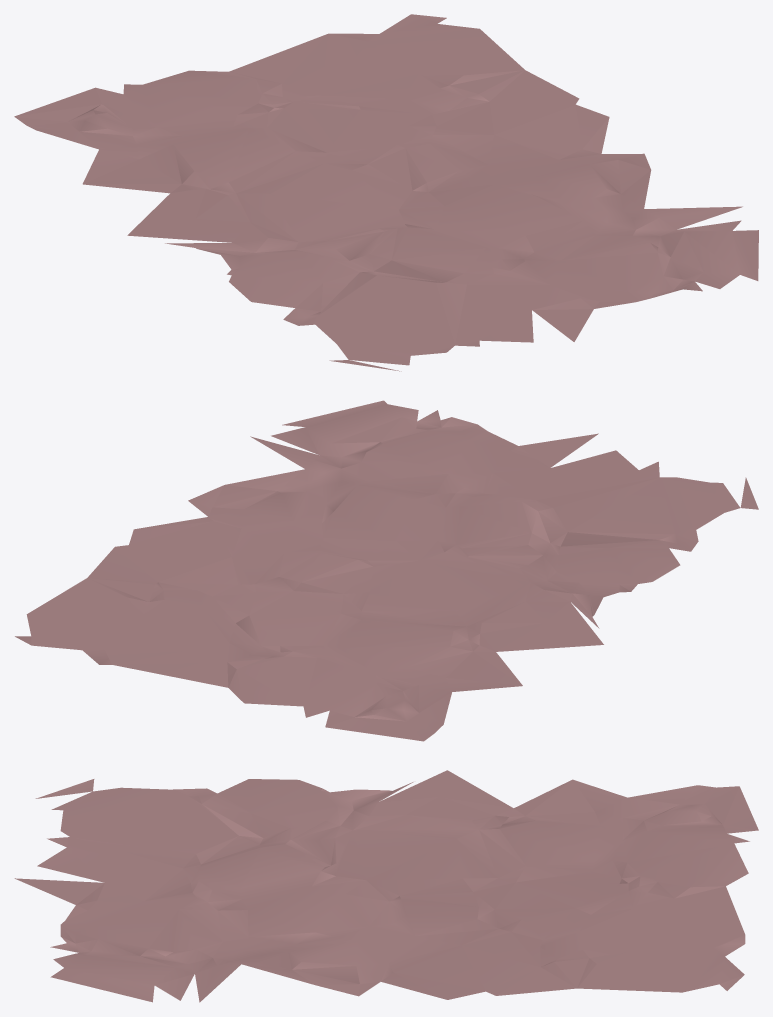
File: pleateauArea1.fbx_PolyShape__46__011LODs.fbx
3 views of the same model, one above another, from view 1: azimuth 30°, elevation 25°; view 2: azimuth 150°, elevation 25°; view 3: azimuth 270°, elevation 25° (orthographic). The views are drawn at different scales.
Visible parts, largest first — view 1: PolyShape (46).011_LOD0; view 2: PolyShape (46).011_LOD0; view 3: PolyShape (46).011_LOD0.
Boxes of the visible parts, <box> form: PolyShape (46).011_LOD0: <box>14,14,758,371</box>; PolyShape (46).011_LOD0: <box>15,400,758,741</box>; PolyShape (46).011_LOD0: <box>14,770,758,1002</box>.
Size of what is drawn, in the model's own units: 4804 by 74.84 by 6447.
